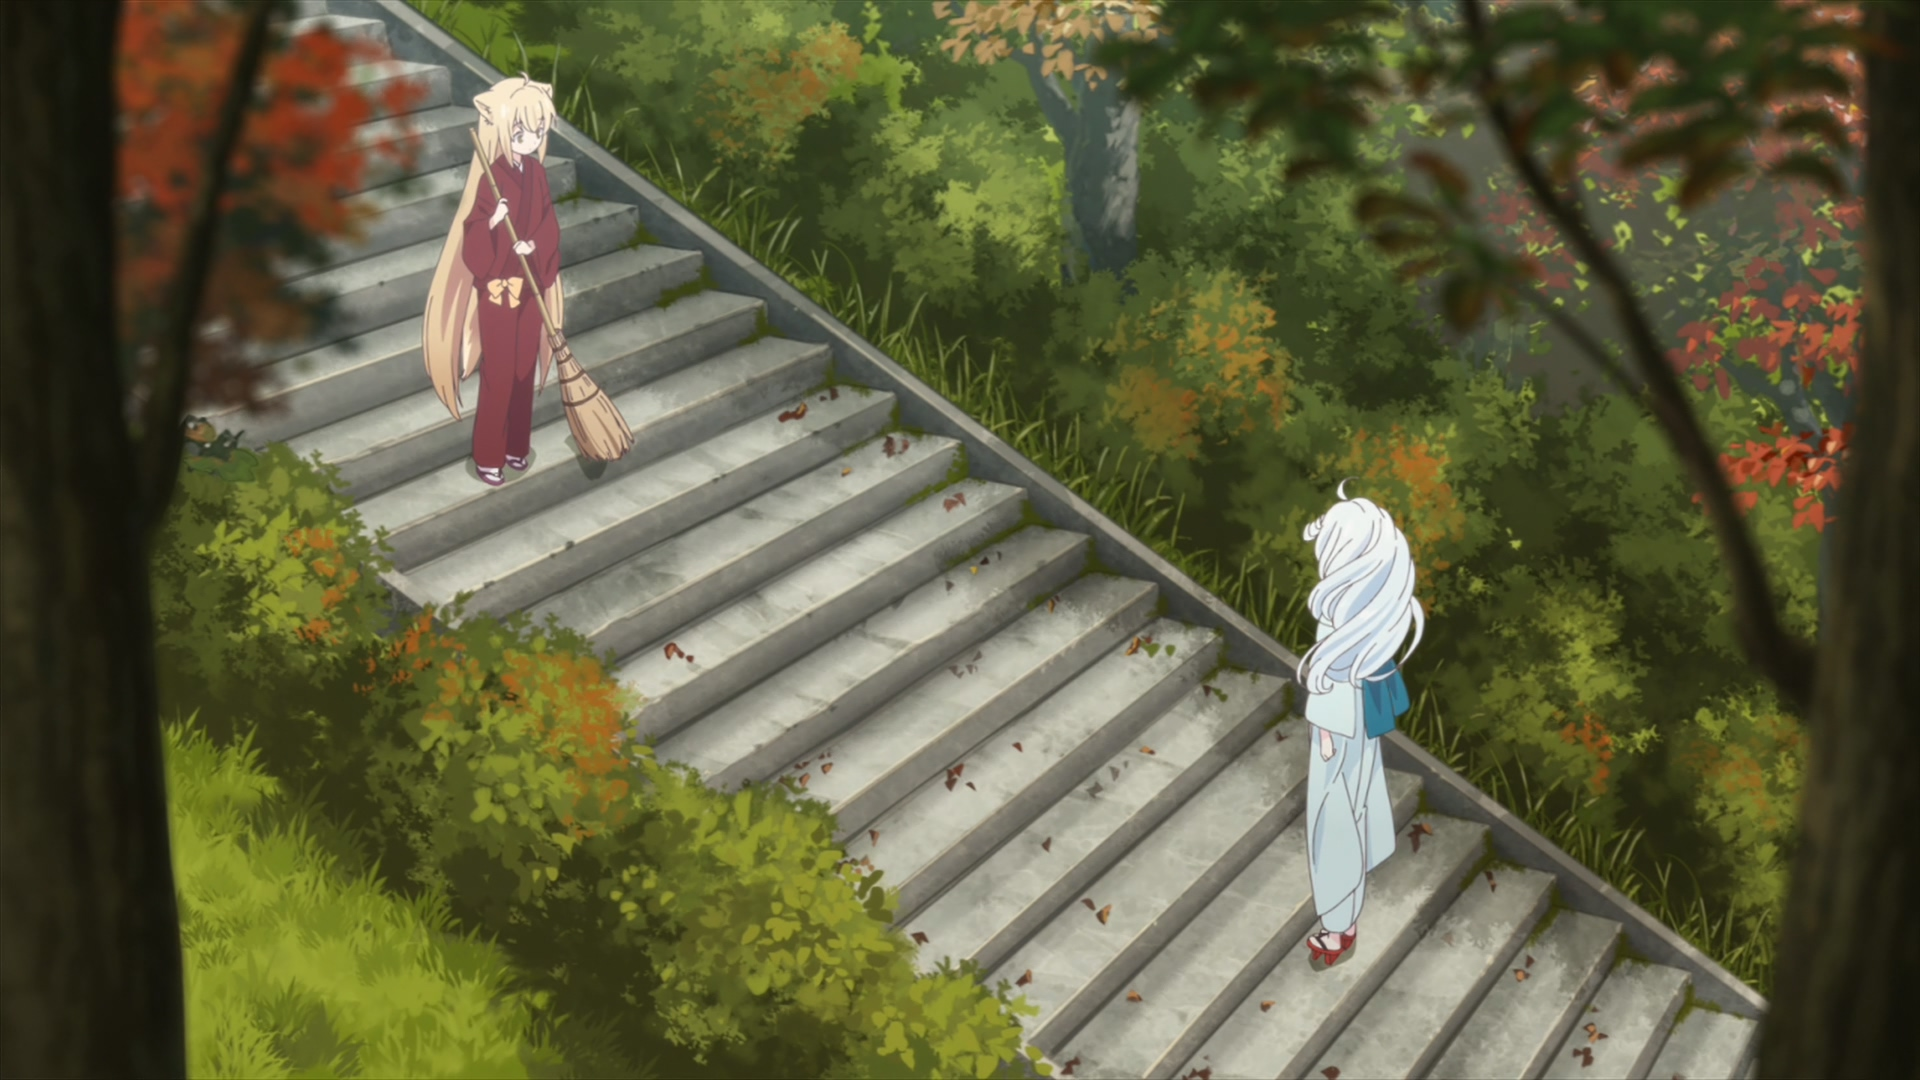其他: (1298, 479, 1424, 965)
柚: (419, 71, 563, 487)
